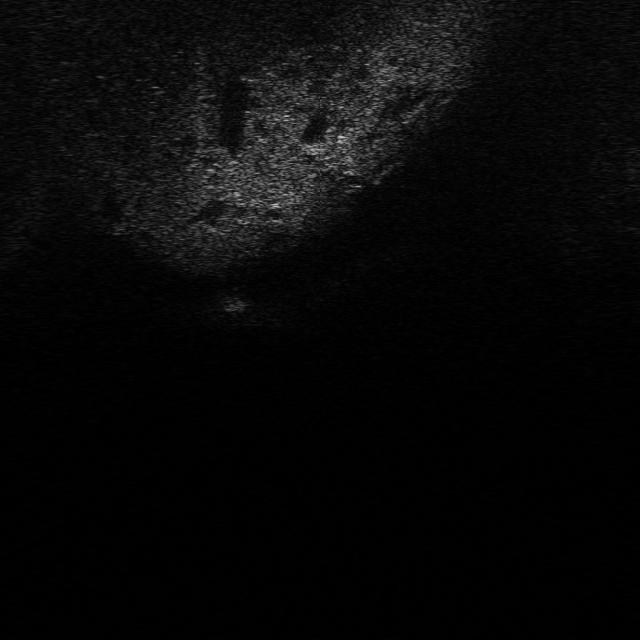cube: (212, 284, 254, 314)
